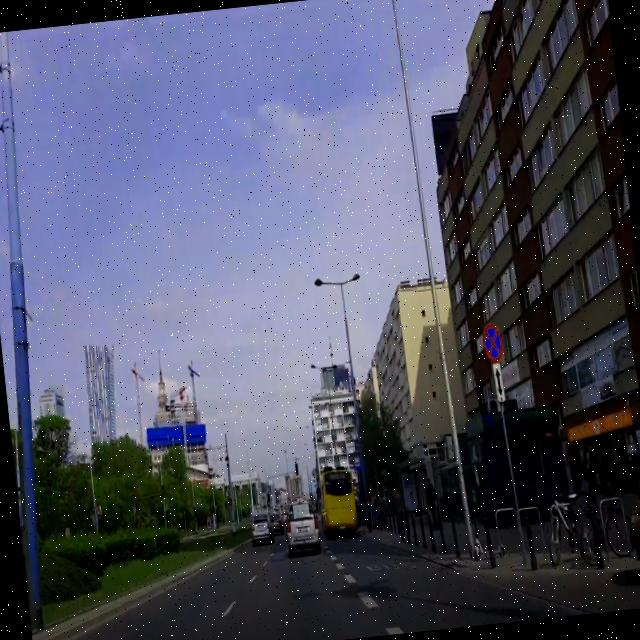Zakaz zatrzymywania sie: (480, 320, 504, 362)
